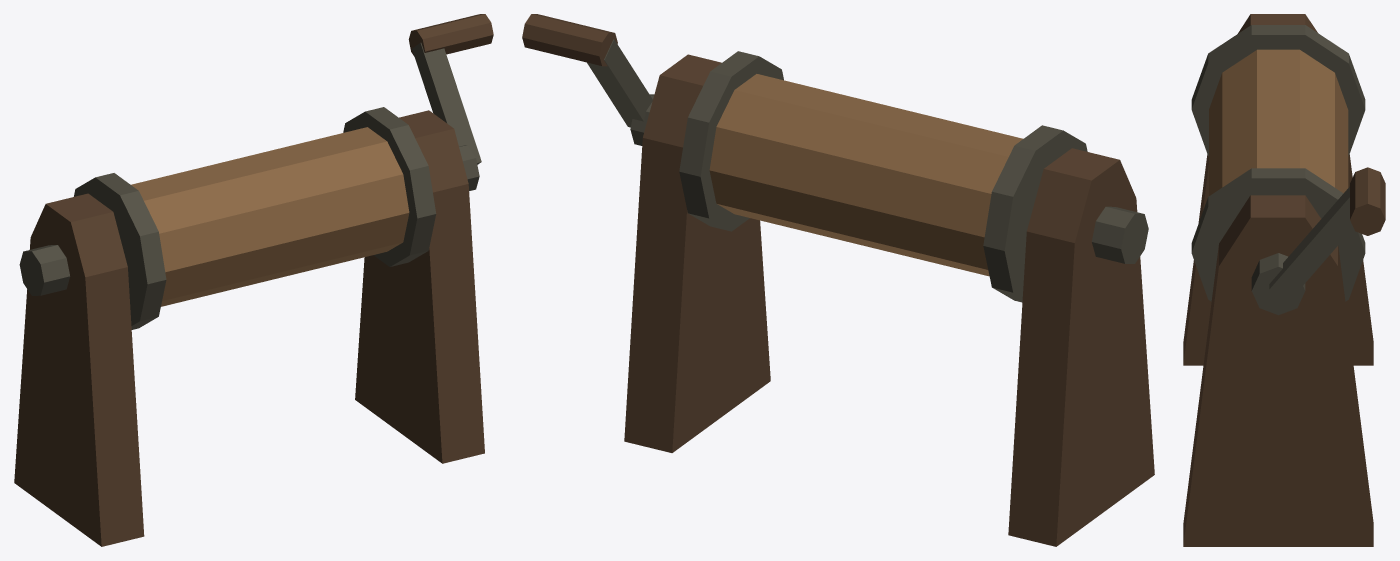
Rendered from gate_windlass.glb.
The picture shows the model from 3 angles, left to right: view 1: azimuth 30°, elevation 25°; view 2: azimuth 150°, elevation 25°; view 3: azimuth 270°, elevation 25°; orthographic projection. The views are drawn at different scales.
Parts seen in each view (by area): view 1: Gate windlass; view 2: Gate windlass; view 3: Gate windlass.
Part boxes in pixels (bbox=[...]): Gate windlass: bbox=[14, 14, 493, 546]; Gate windlass: bbox=[522, 14, 1154, 546]; Gate windlass: bbox=[1183, 14, 1385, 546].
Bounding box in the file's own units: 1.05 × 0.72 × 0.34.
